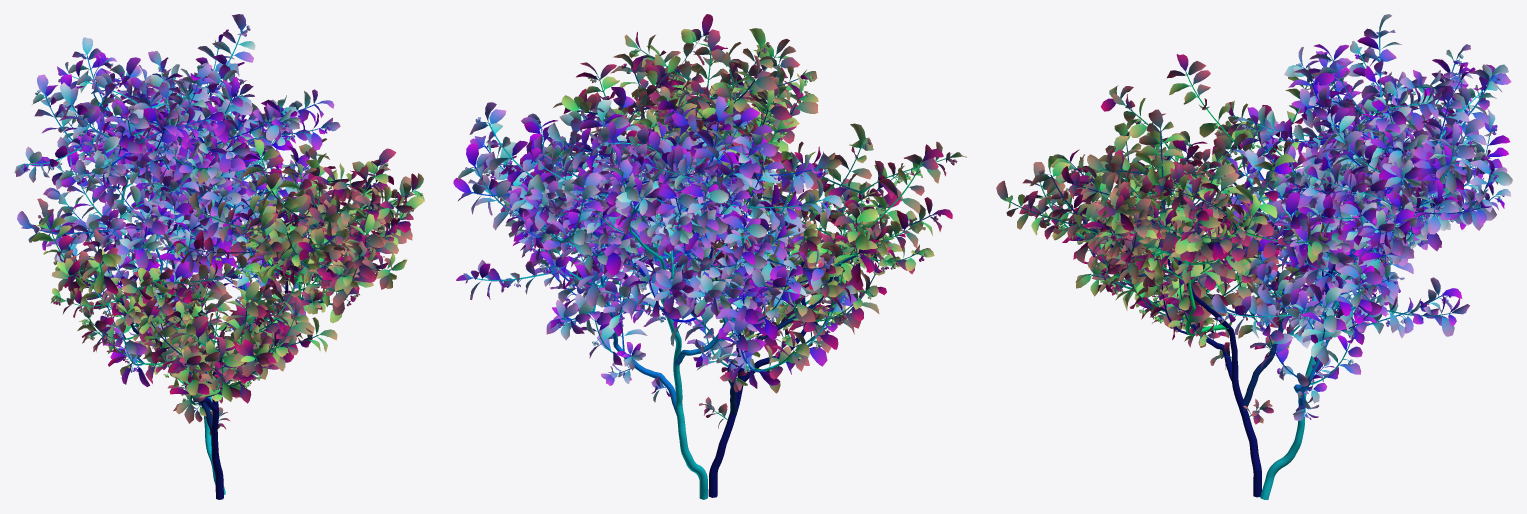
The model's file is European_Spindle_wk1ncbxja_Mid_wk1ncbxja_VarD_LOD0.fbx.
3 renders of one model, left to right at view 1: azimuth 30°, elevation 25°; view 2: azimuth 150°, elevation 25°; view 3: azimuth 270°, elevation 25°, orthographic. The views are drawn at different scales.
Parts seen in each view (by area): view 1: _yxjf_VarD_LOD1; view 2: _yxjf_VarD_LOD1; view 3: _yxjf_VarD_LOD1.
Boxes of the visible parts, x1=… form: _yxjf_VarD_LOD1: x1=14, y1=14, x2=424, y2=499; _yxjf_VarD_LOD1: x1=453, y1=14, x2=966, y2=499; _yxjf_VarD_LOD1: x1=996, y1=14, x2=1512, y2=499.
Size of the model in its own units: 253 by 274 by 298.
